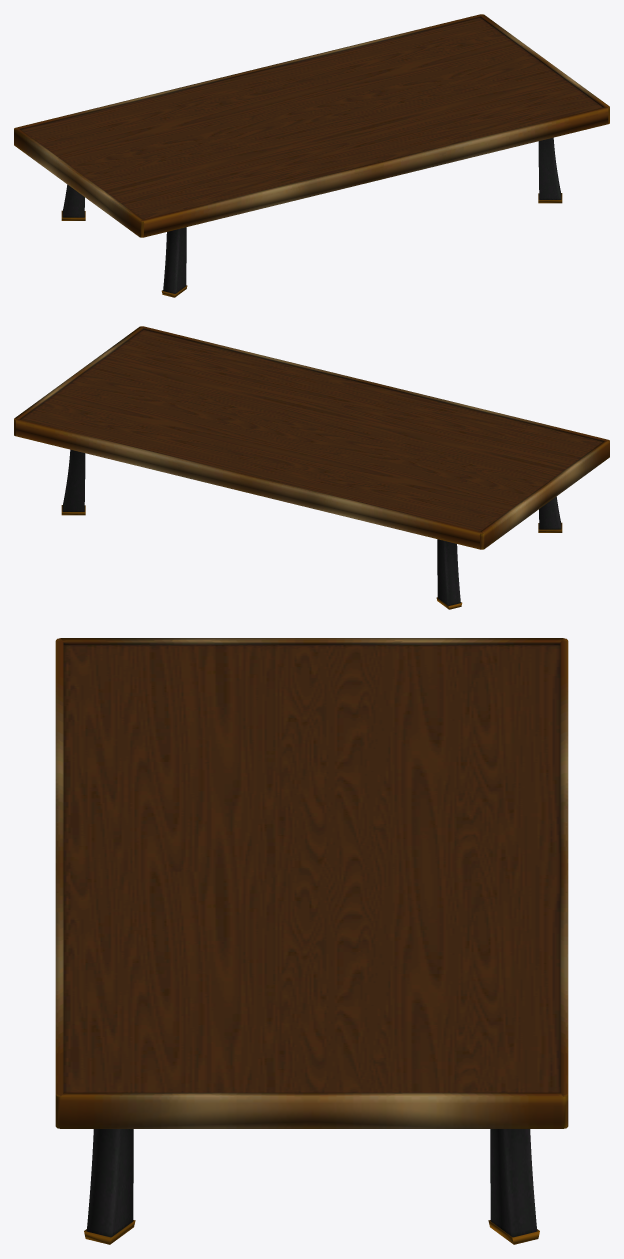
Rendered from Table1.a.fbx.
3 renders of one model, top to bottom at view 1: azimuth 30°, elevation 25°; view 2: azimuth 150°, elevation 25°; view 3: azimuth 270°, elevation 25°, orthographic. The views are drawn at different scales.
Parts seen in each view (by area): view 1: Group 0; view 2: Group 0; view 3: Group 0.
Part boxes in pixels (<box>): Group 0: <box>14,14,609,297</box>; Group 0: <box>14,326,609,609</box>; Group 0: <box>55,638,568,1244</box>.
Bounding box in the file's own units: 186 × 34.35 × 87.65.
1 material, 1 textured.
